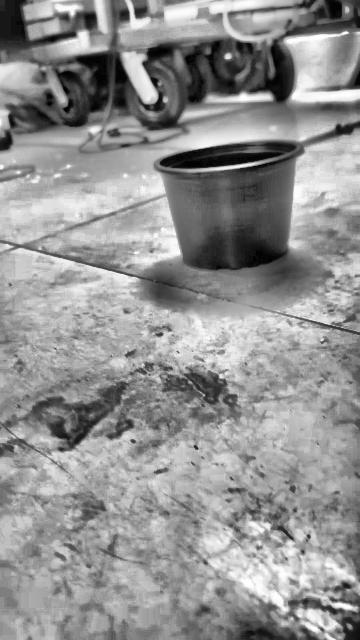pot: (153, 140, 303, 270)
